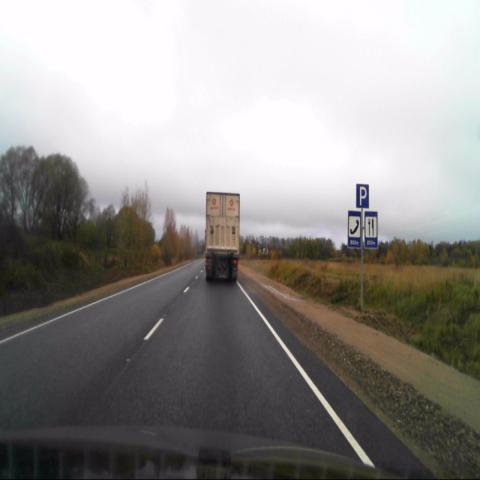7_6: (348, 210, 361, 248)
7_7: (364, 211, 378, 248)
